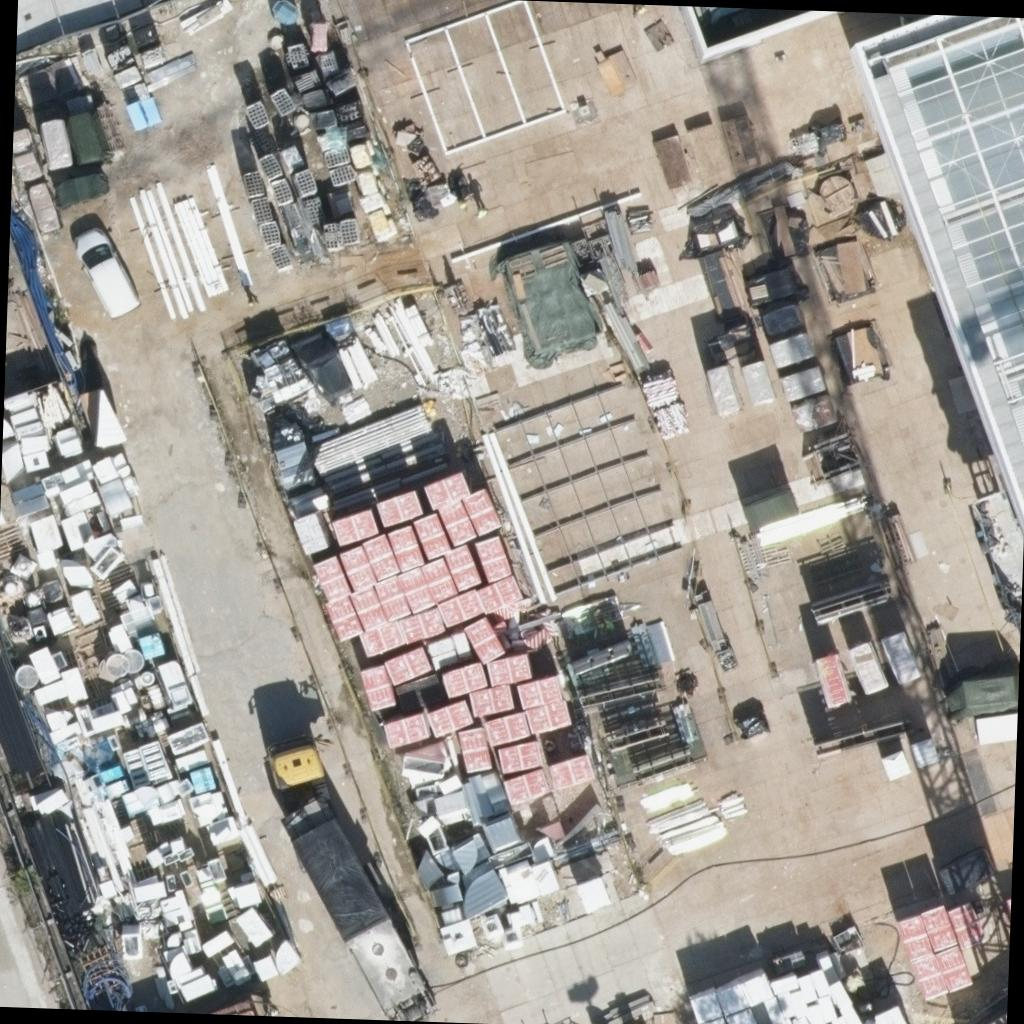ciezarowka: (258, 736, 450, 1020)
samochod_osobowy: (74, 228, 140, 318)
